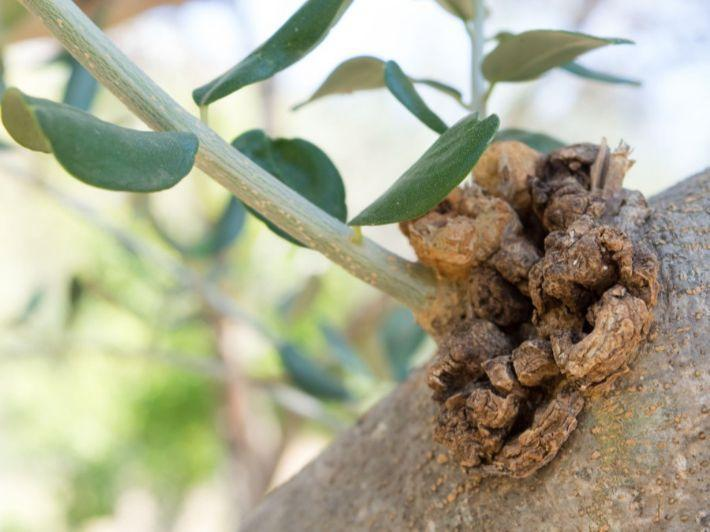Tuberculosis: (393, 126, 669, 475)
